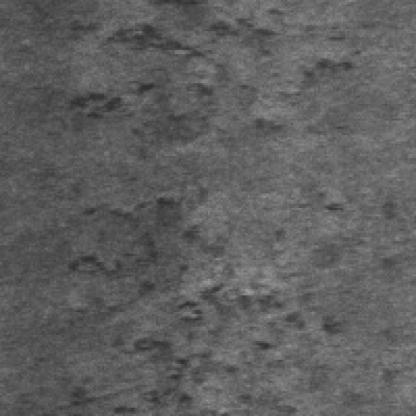rolled-in_scale: (79, 227, 339, 395), (81, 4, 345, 121)
